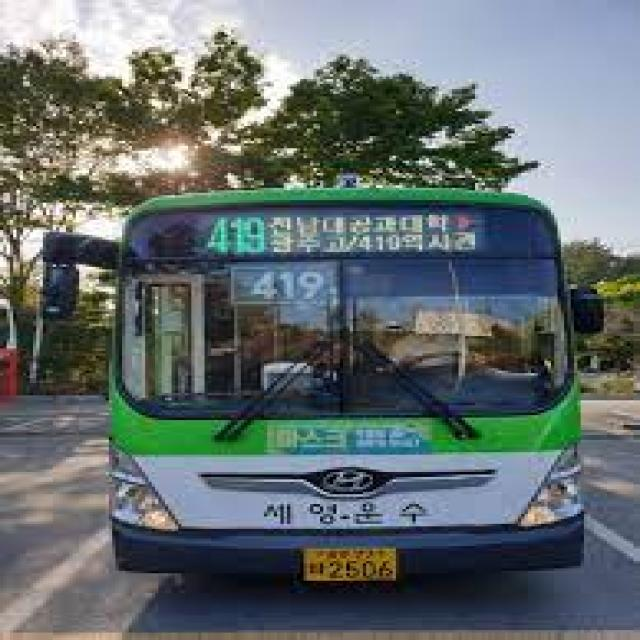bus-number: (205, 216, 267, 253)
